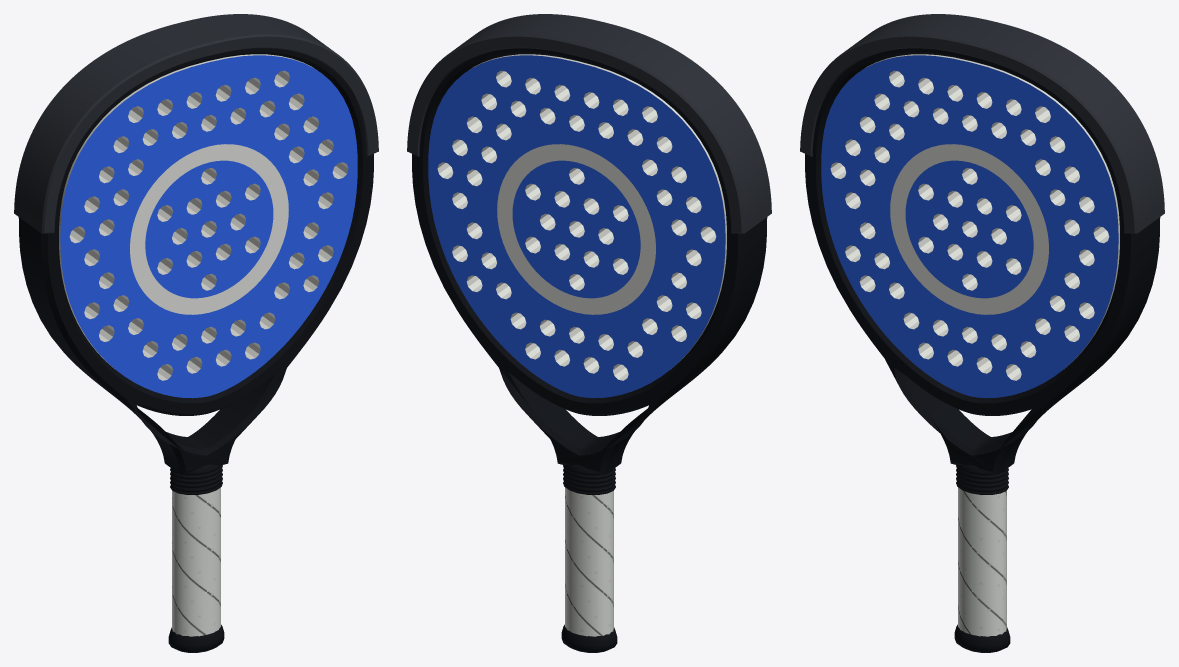
Rendered from starvie-triton-pro-2025.preview.glb.
3 views of the same model, side by side, from view 1: azimuth 30°, elevation 25°; view 2: azimuth 150°, elevation 25°; view 3: azimuth 330°, elevation 25° (orthographic).
Parts seen in each view (by area): view 1: part_face, part_frame, part_bumper, part_print, part_grip, part_collar, part_cap; view 2: part_face, part_frame, part_bumper, part_print, part_grip, part_collar, part_cap; view 3: part_face, part_frame, part_bumper, part_print, part_grip, part_collar, part_cap.
Part boxes in pixels (<box>): part_face: <box>59,54,357,398</box>; part_frame: <box>18,48,373,474</box>; part_bumper: <box>14,14,378,233</box>; part_print: <box>130,144,288,314</box>; part_grip: <box>172,487,220,636</box>; part_collar: <box>170,464,222,494</box>; part_cap: <box>168,624,224,652</box>; part_face: <box>428,54,726,398</box>; part_frame: <box>412,48,767,474</box>; part_bumper: <box>407,14,771,233</box>; part_print: <box>497,144,655,314</box>; part_grip: <box>565,487,613,636</box>; part_collar: <box>563,464,615,494</box>; part_cap: <box>561,624,617,652</box>; part_face: <box>821,54,1119,398</box>; part_frame: <box>805,48,1160,474</box>; part_bumper: <box>800,14,1164,233</box>; part_print: <box>890,144,1048,314</box>; part_grip: <box>958,487,1006,636</box>; part_collar: <box>956,464,1008,494</box>; part_cap: <box>954,624,1010,652</box>.
Size of the model in its own units: 0.2631 by 0.4566 by 0.0404.
Materials: 9 (1 with a texture image).
